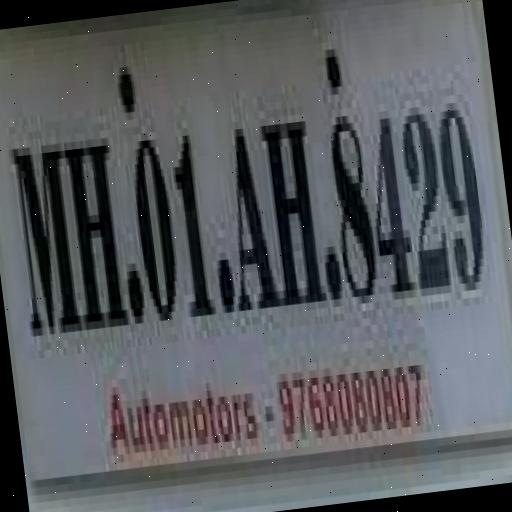number plate: (0, 0, 507, 421)
